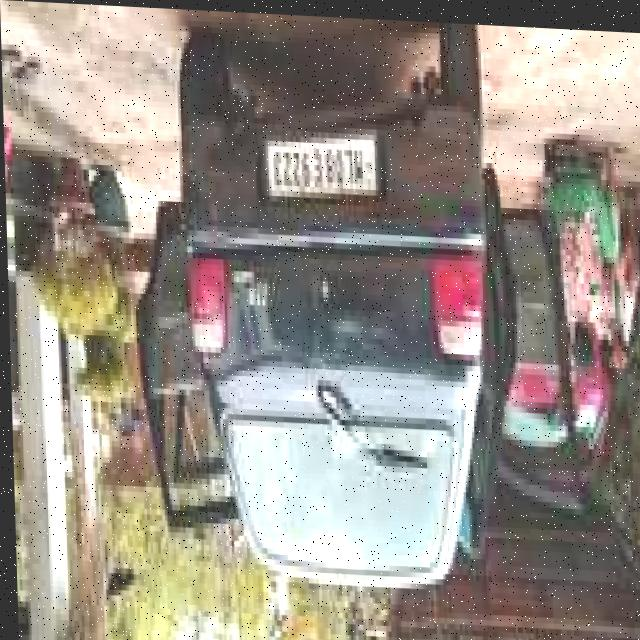plate: (265, 129, 376, 198)
